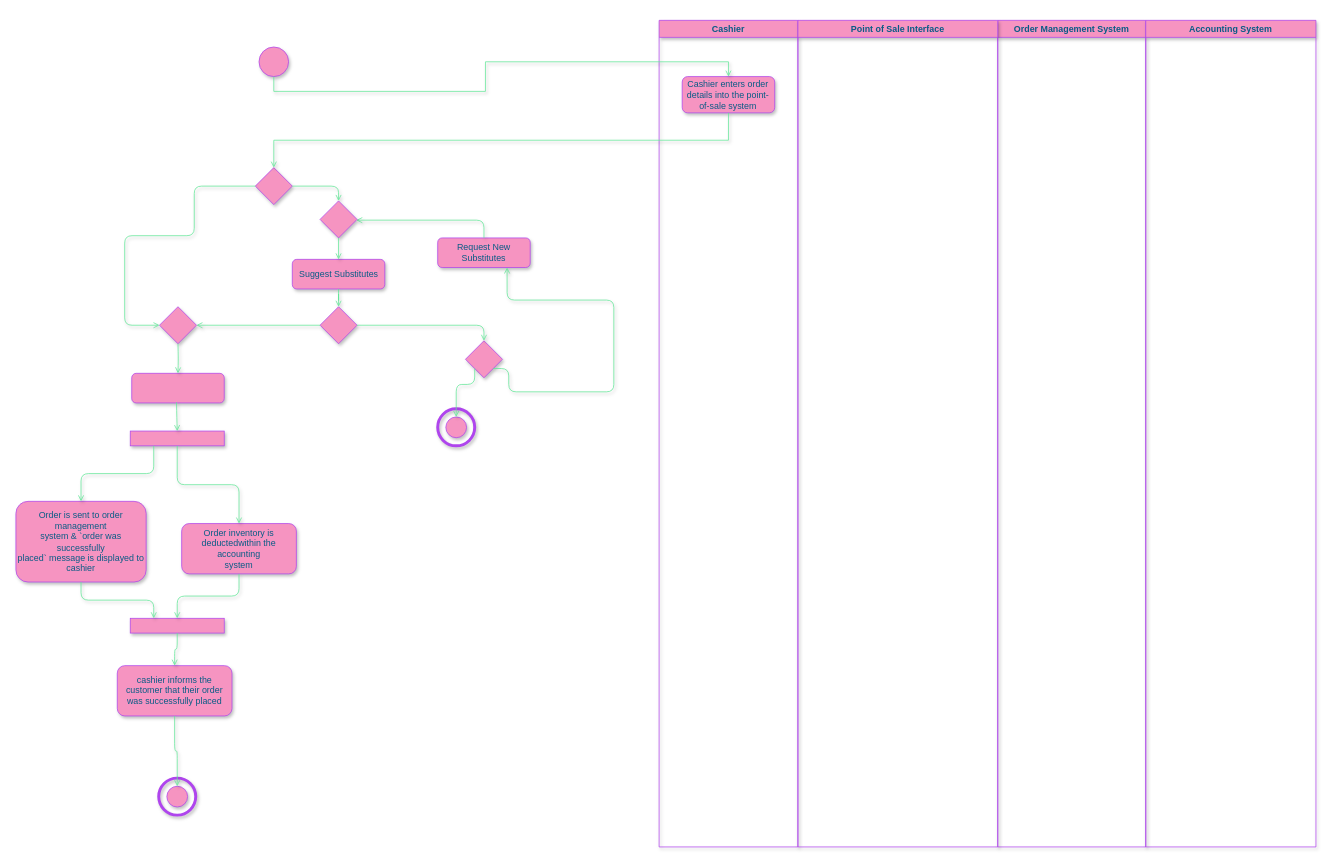
Image size: 1333x865. Some labels were removed from this diagram. The shapes that lost their labels are listed below. From the top down, each one's centre as x and y in pixels, then its label:
[274,62]: Customer Provides Order
[274,187]: [Order in Stock] [Order not in Stock]
[338,326]: [Accept Substitutes] [ Reject Substitutes ]
[484,360]: [Customer Leaves] [ Customer Stays ]
[178,389]: Order is Placed
